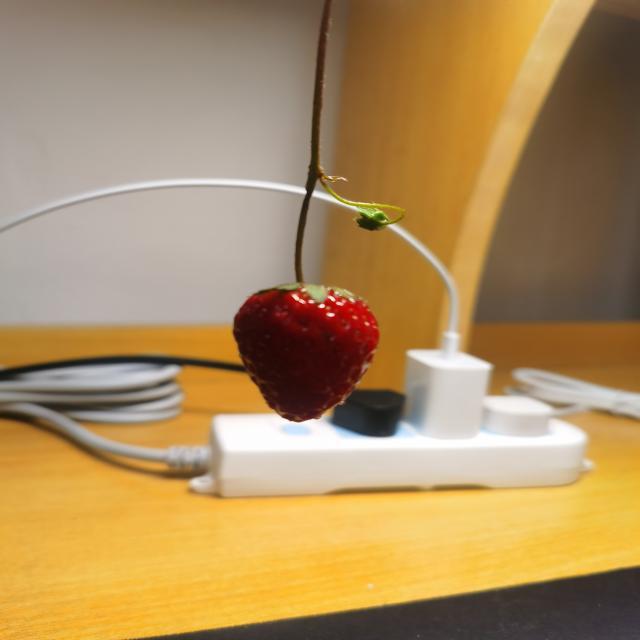stem: (295, 192, 312, 285)
strawberry: (232, 283, 380, 422)
